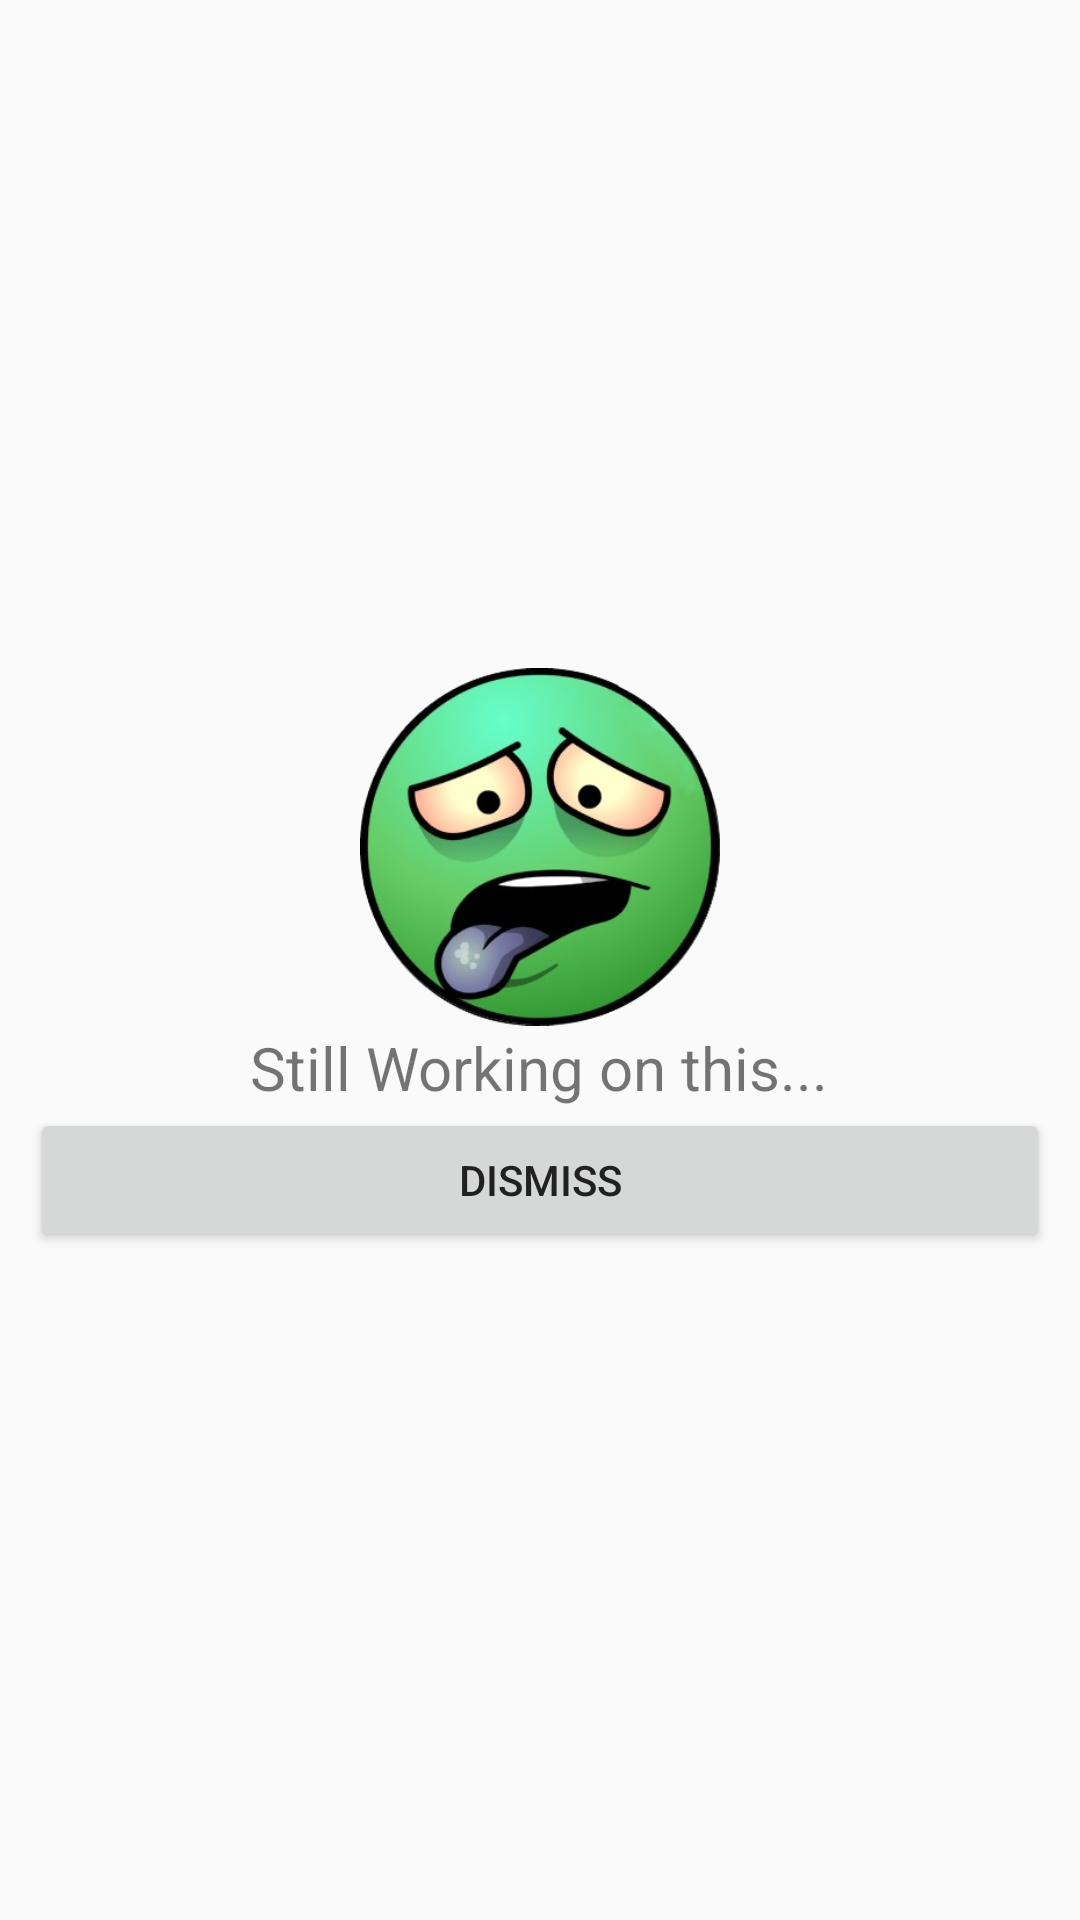

Named icons in this screenshot (1080px x 1920px) and their centers, (x,y):
sickface: (540,847)
